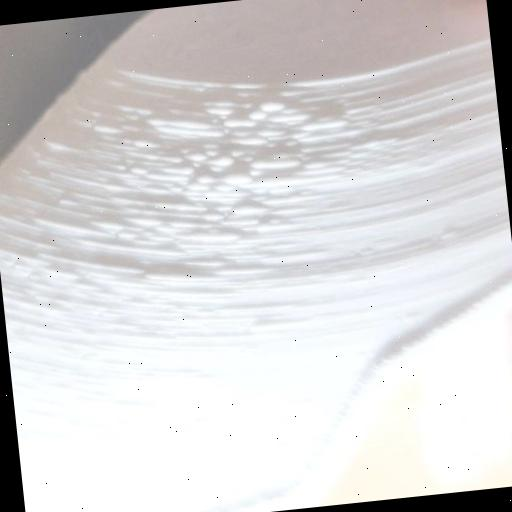blobs: (220, 166, 251, 190), (244, 106, 272, 130), (210, 150, 236, 174), (257, 97, 288, 117), (222, 113, 248, 136), (199, 204, 226, 226), (193, 170, 222, 190), (183, 146, 207, 169), (230, 198, 256, 218), (183, 178, 208, 195), (128, 164, 148, 182)
